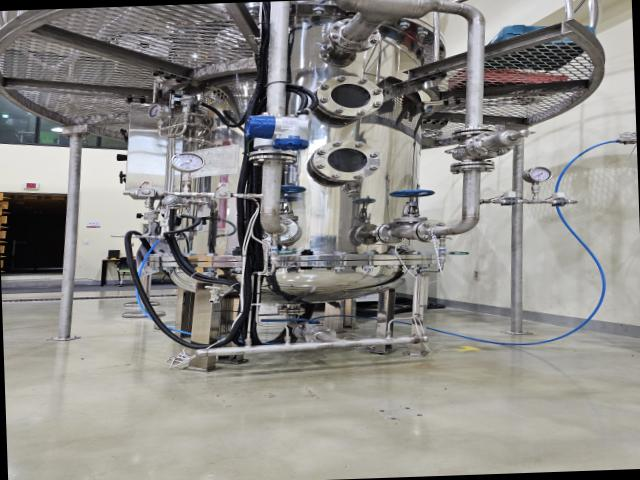Flange: (310, 139, 382, 184), (316, 74, 386, 120)
Flush Ring: (329, 18, 385, 52), (244, 146, 302, 166), (262, 218, 302, 246), (414, 216, 448, 244), (445, 124, 504, 138), (448, 159, 497, 175), (378, 220, 408, 244), (302, 326, 342, 342)
GasRegulator: (144, 90, 228, 148)
Nuts: (497, 194, 529, 210), (132, 186, 164, 200), (548, 196, 578, 210), (210, 190, 238, 202)
Piston Valve: (387, 186, 443, 220), (280, 183, 310, 216)
Pressure Gage: (169, 150, 209, 191), (520, 165, 555, 201)
